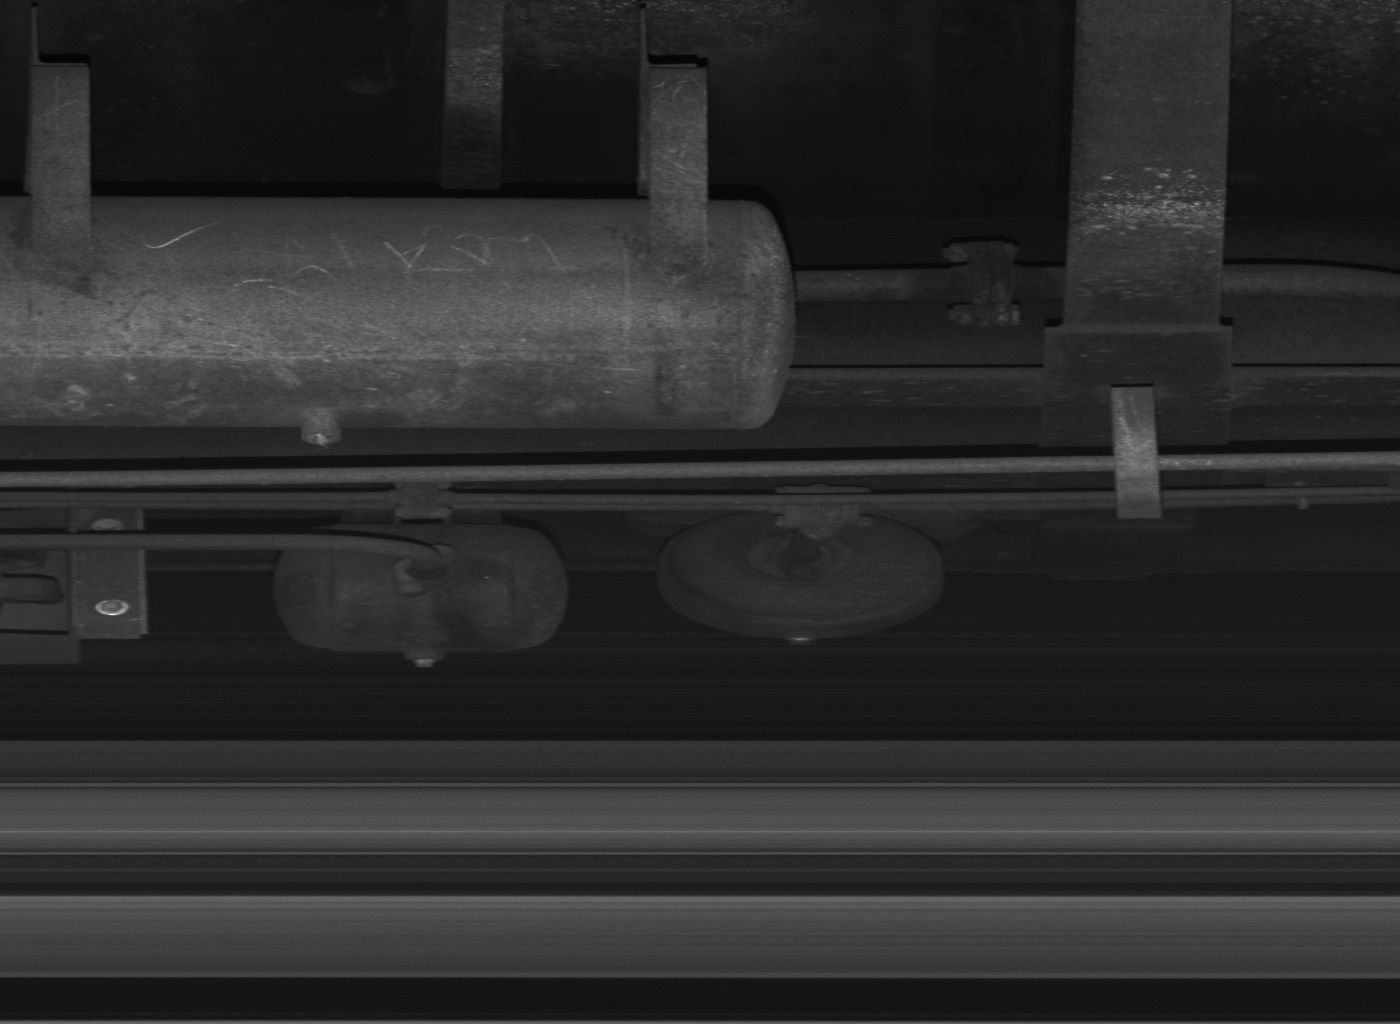normal: (1110, 386, 1162, 521)
